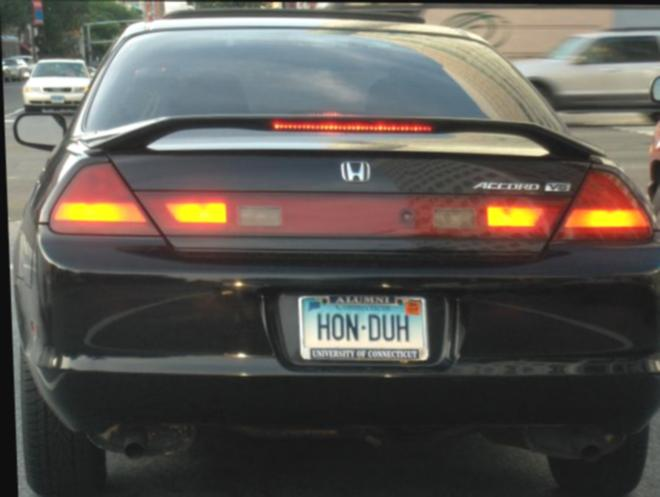License_Plate: (287, 285, 442, 378)
